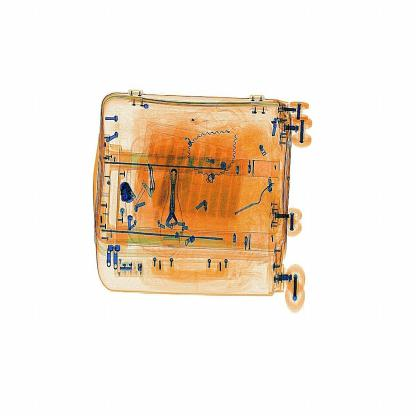scissors: (114, 172, 142, 211)
